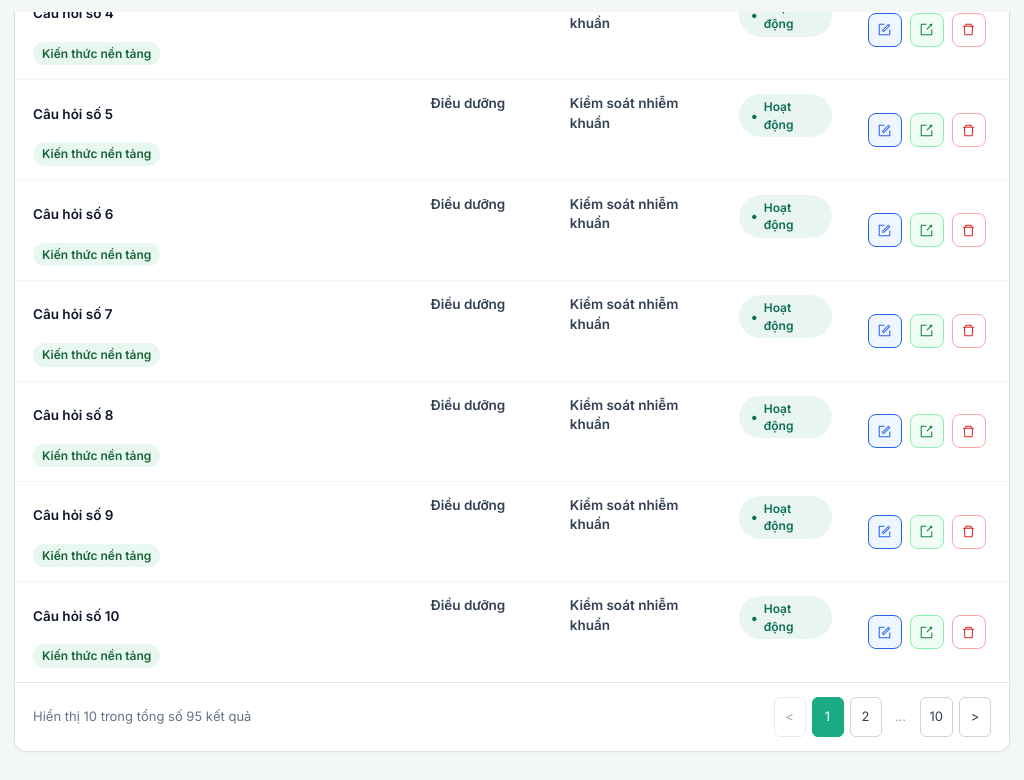
QuestionBankListPage - tìm kiếm, lọc, phân trang › phân trang 10 câu mỗi trang với dải số rút gọn
(page scrolled)
Expected: the text "Hiển thị 10 trong tổng số 95 kết quả" is shown, [33,707,251,726]
Expected: the button "<" is disabled, [774,697,806,737]
Click the button ">": (975, 717) [959,697,991,737]
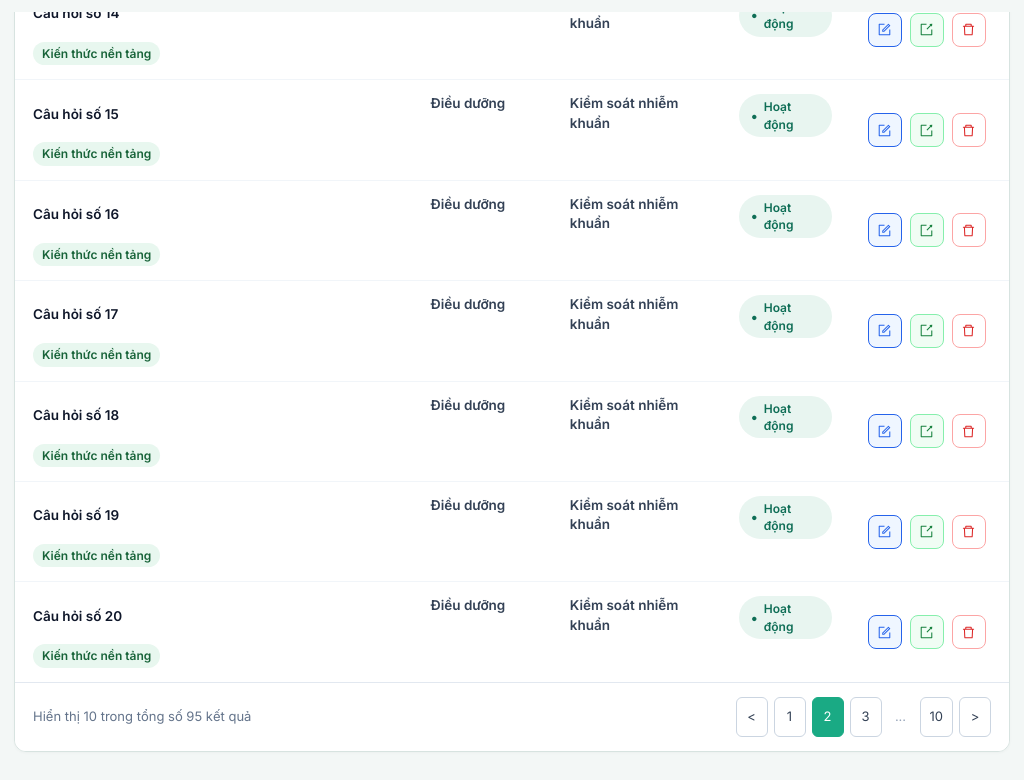
Expected: the text "..." is shown, [895,708,906,724]
Click the button "3": (866, 717) [850,697,882,737]
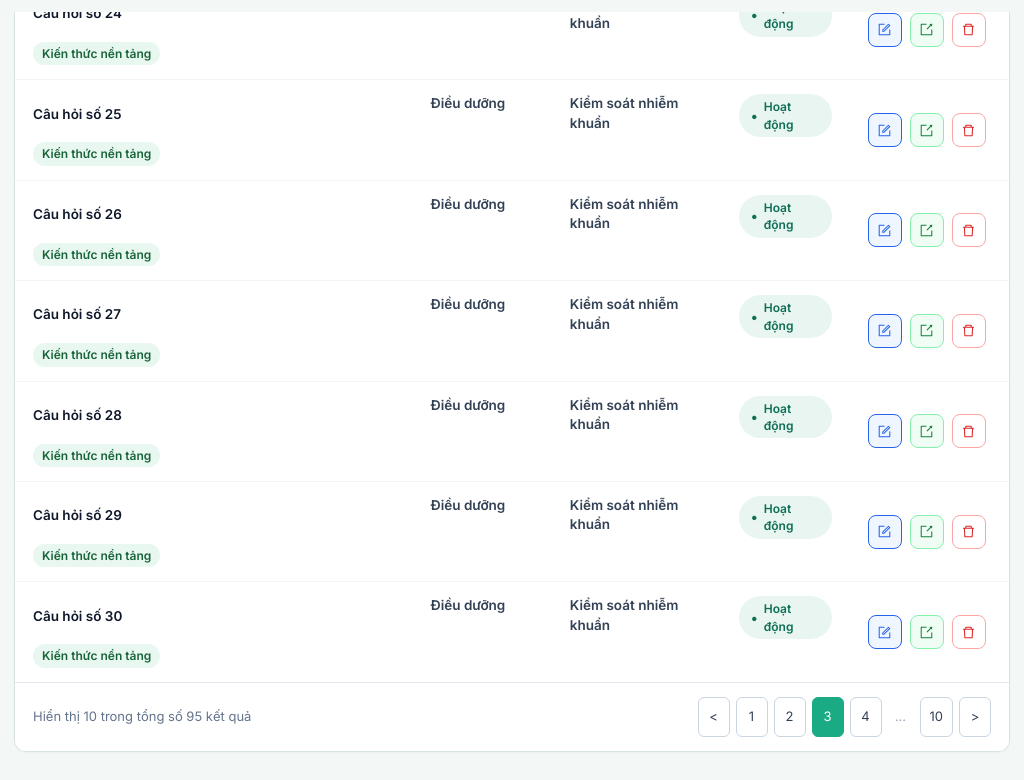
Click the button "10": (936, 717) [920,697,953,737]
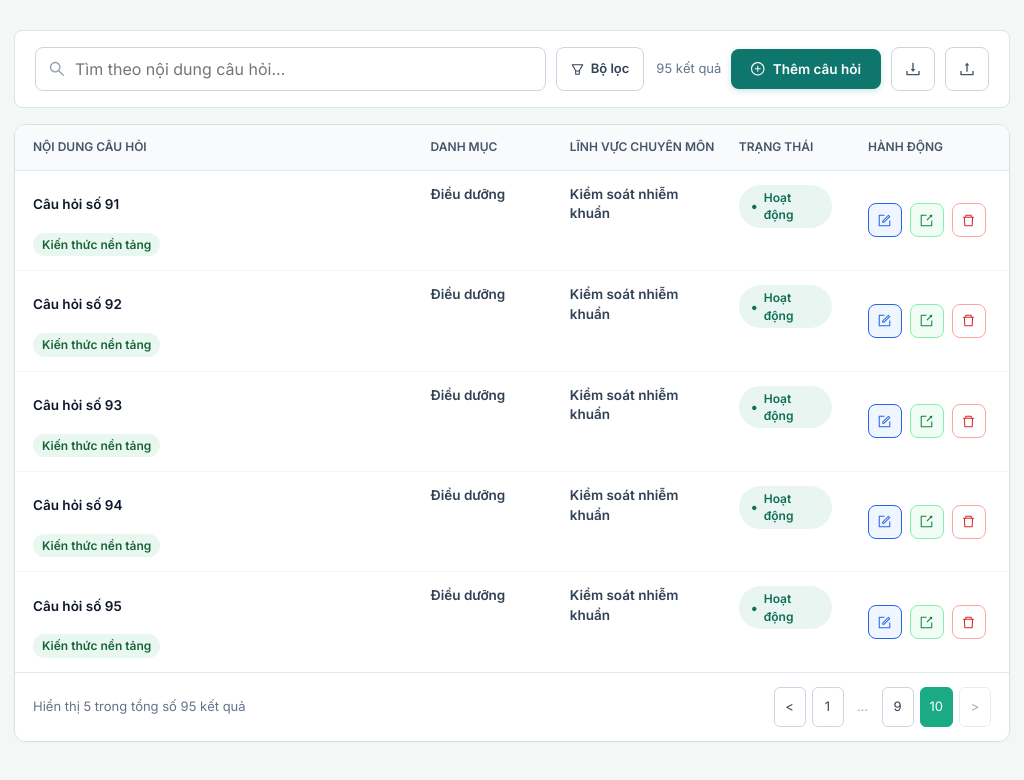
Result: the button "Câu hỏi số 91" is shown at [33,185,395,225]
Result: the button ">" is disabled at [959,687,991,727]
Click the button "<": (790, 707) [774,687,806,727]
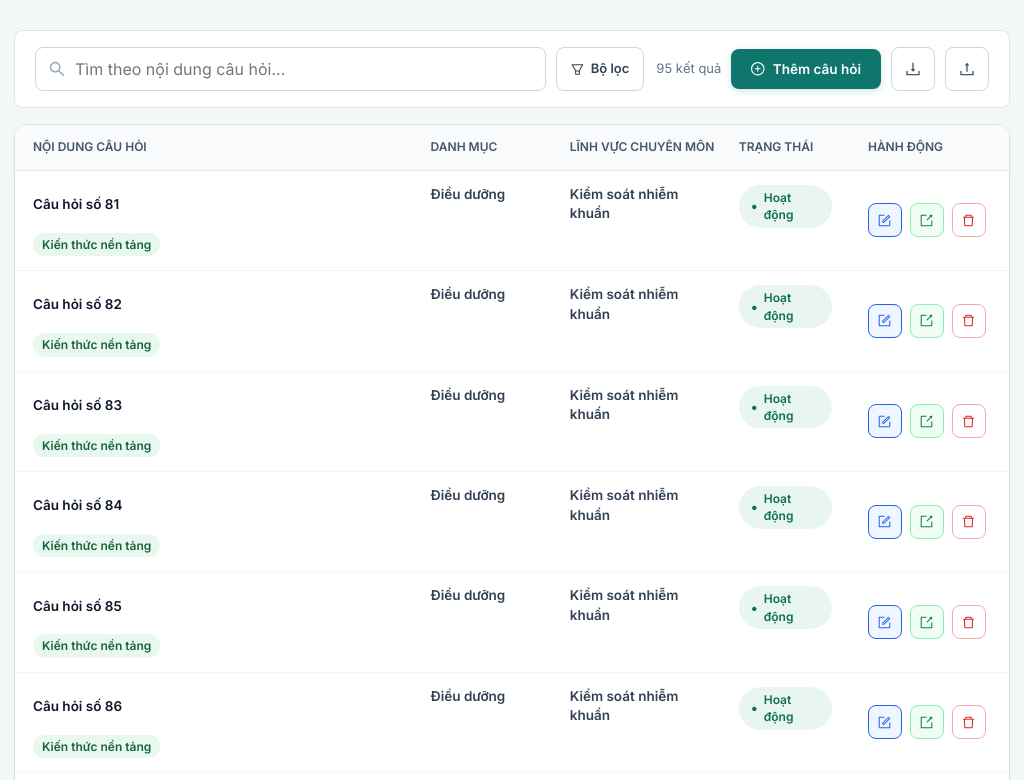
Result: the button "Câu hỏi số 81" is shown at [33,185,395,225]
